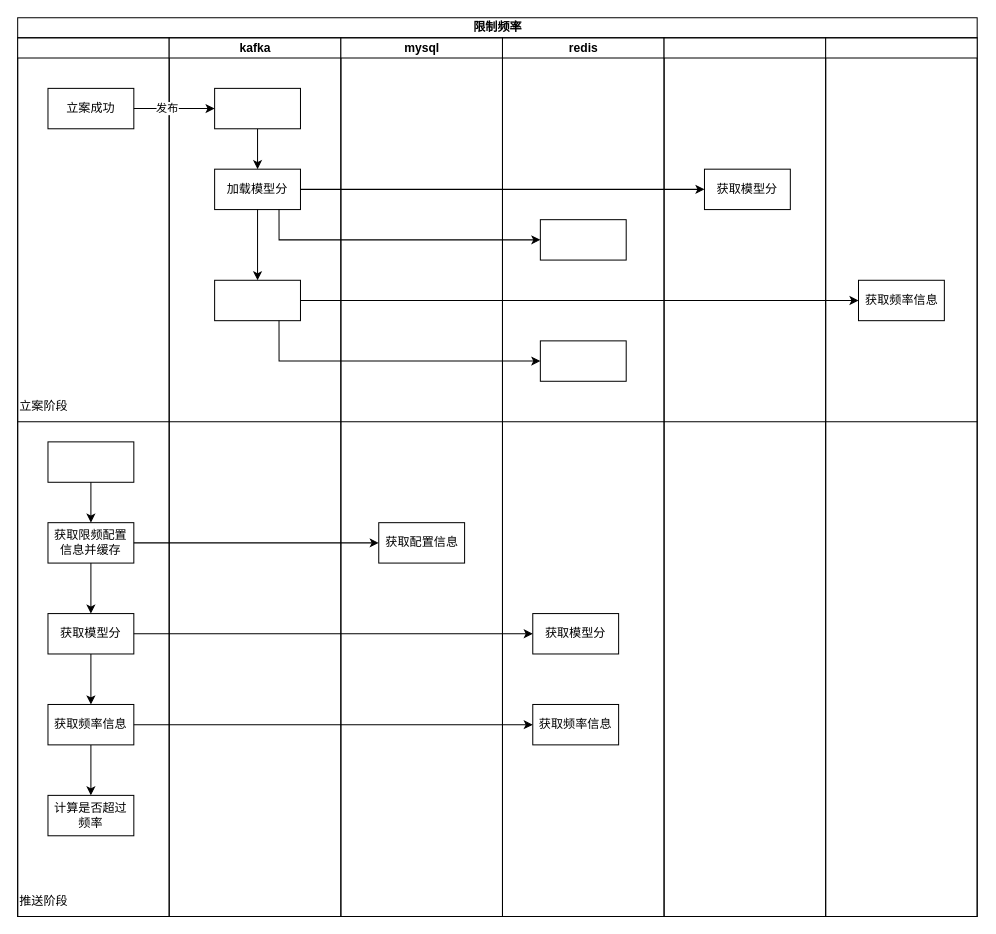
The diagram is 996 pixels wide and 934 high, and some of its shapes have lost their labels. The box of each missing label's shape, as (x1, y1, x2, y2) in pixels:
hbase: (825, 37, 977, 917)
recall-schedule: (17, 37, 169, 917)
写入模型分: (539, 219, 626, 260)
写入频率信息: (539, 340, 626, 381)
加载频率信息: (214, 279, 300, 321)
推送前的过滤: (47, 441, 134, 482)
立案消息: (214, 87, 300, 129)
风控: (663, 37, 826, 917)
